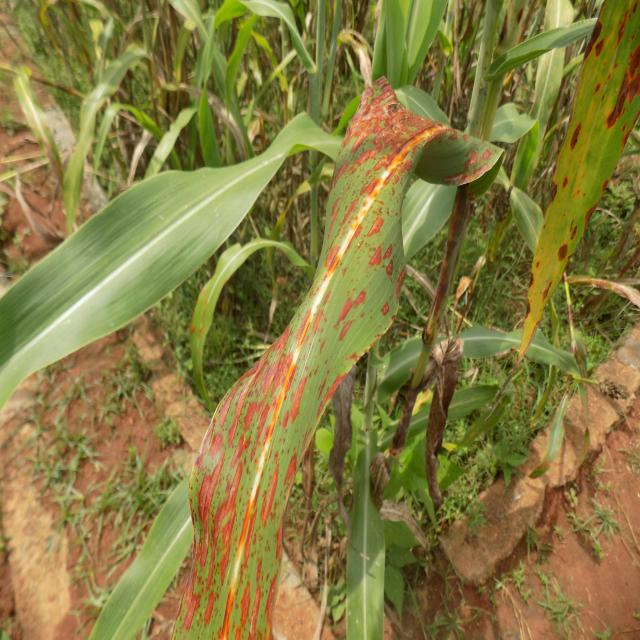millet_healthy: (0, 98, 360, 391)
millet_rust: (183, 78, 510, 640)
